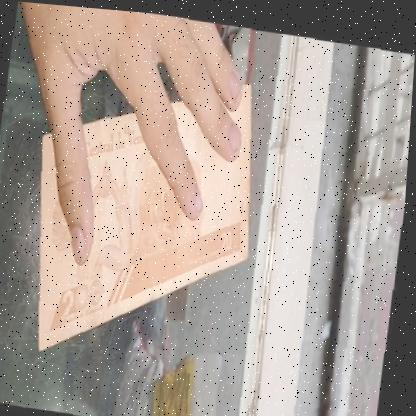twenty-back-vef: (20, 53, 268, 374)
